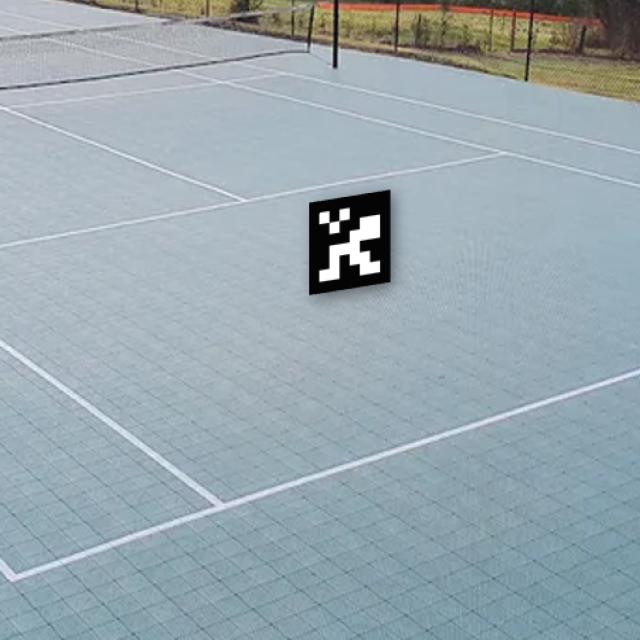marker: (302, 184, 407, 304)
